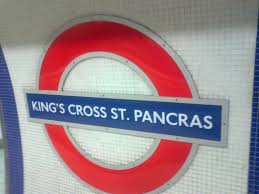London Underground: (24, 14, 229, 194)
